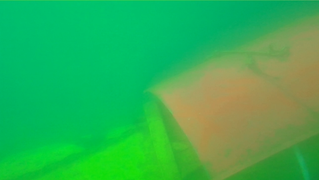leak: (141, 10, 319, 179)
pipe: (1, 102, 208, 180), (224, 132, 319, 179)
